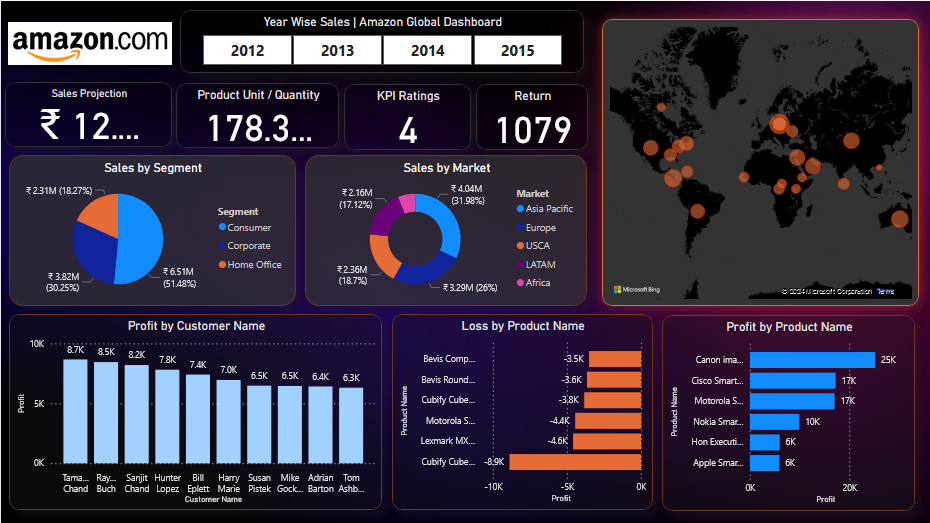

What the dashboard file says about the page in this screenshot:
{"tool":"powerbi","page":{"name":"Page 1","canvas":[1280,720],"ordinal":0},"visuals":[{"type":"image","box":[0,2.1,236.2,112.8],"z":0},{"type":"slicer","title":"Year Wise Sales | Amazon Global Dashbord","fields":{"Values":["Orders.Order Date.Variation.Date Hierarchy.Year"]},"box":[258.8,2,496.1,90.2],"z":1000},{"type":"card","title":"Sales Projection","fields":{"Values":["Orders.Sales"]},"box":[0,98.6,194.3,111.4],"z":2000},{"type":"card","title":"Product Unit / Quantity","fields":{"Values":["Orders.Quantity"]},"box":[194.3,98.6,228.6,111.4],"z":3000},{"type":"card","title":"KPI Ratings","fields":{"Values":["Orders.Delivery Date"]},"box":[422.9,98.6,164.3,111.4],"z":4000},{"type":"card","title":"Return","fields":{"Values":["Returns.Return 1"]},"box":[591.4,105.7,162.9,95.7],"z":5000},{"type":"pieChart","title":"Sales by Segment","fields":{"Y":["Orders.Sales"],"Category":["Orders.Segment"]},"box":[0,223.5,380.4,231.4],"z":6000},{"type":"donutChart","title":"Sales by Market","fields":{"Y":["Orders.Sales"],"Category":["Orders.Market"]},"box":[380.4,225.5,374.5,229.4],"z":7000},{"type":"columnChart","title":"Profit by Customer Name","fields":{"Category":["Orders.Customer Name"],"Y":["Orders.Profit"]},"box":[0,454.9,466.7,258.8],"z":8000},{"type":"clusteredBarChart","title":"Loss by Product Name","fields":{"Y":["Orders.Profit"],"Category":["Orders.Product Name"]},"box":[470.6,454.9,403.9,264.7],"z":9000},{"type":"clusteredBarChart","title":"Profit by Product Name","fields":{"Y":["Orders.Profit"],"Category":["Orders.Product Name"]},"box":[888.2,454.9,392.2,264.7],"z":10000},{"type":"map","fields":{"Category":["Orders.Region"],"Size":["Orders.Sales"]},"box":[754.9,2,525.5,452.9],"z":11000}]}

Visuals, with their boxes in screenshot pixels (x1, y1, x2, y2), scaled from the page's 1280x720 canvas onto the 930x523 screenshot:
image: x1=0, y1=2, x2=172, y2=83
"Year Wise Sales | Amazon Global Dashbord" slicer: x1=188, y1=1, x2=548, y2=67
"Sales Projection" card: x1=0, y1=72, x2=141, y2=153
"Product Unit / Quantity" card: x1=141, y1=72, x2=307, y2=153
"KPI Ratings" card: x1=307, y1=72, x2=427, y2=153
"Return" card: x1=430, y1=77, x2=548, y2=146
"Sales by Segment" pieChart: x1=0, y1=162, x2=276, y2=330
"Sales by Market" donutChart: x1=276, y1=164, x2=548, y2=330
"Profit by Customer Name" columnChart: x1=0, y1=330, x2=339, y2=518
"Loss by Product Name" clusteredBarChart: x1=342, y1=330, x2=635, y2=522
"Profit by Product Name" clusteredBarChart: x1=645, y1=330, x2=929, y2=522
map - Orders.Region x Orders.Sales: x1=548, y1=1, x2=929, y2=330
